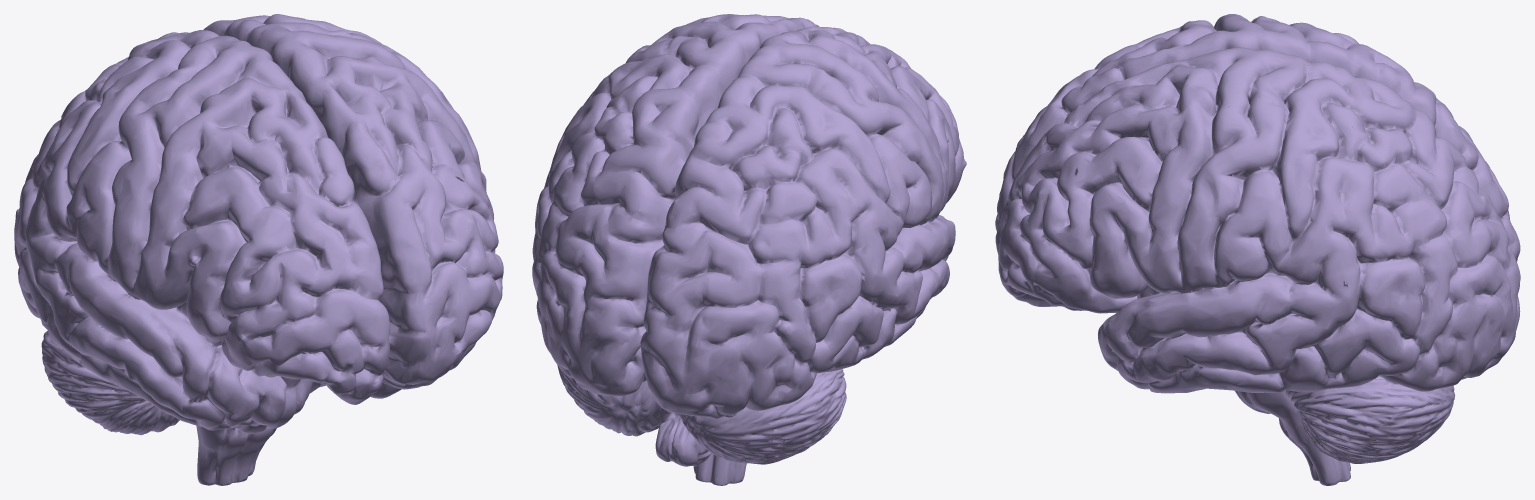
File: brain.glb
The picture shows the model from 3 angles, left to right: view 1: azimuth 30°, elevation 25°; view 2: azimuth 150°, elevation 25°; view 3: azimuth 270°, elevation 25°; orthographic projection. The views are drawn at different scales.
Visible parts, largest first — view 1: human-brain; view 2: human-brain; view 3: human-brain.
Boxes of the visible parts, left/top/right/bottom form: human-brain: left=14, top=14, right=503, bottom=485; human-brain: left=532, top=14, right=966, bottom=485; human-brain: left=995, top=14, right=1520, bottom=485.
Bounding box in the file's own units: 0.1375 × 0.1549 × 0.1699.
